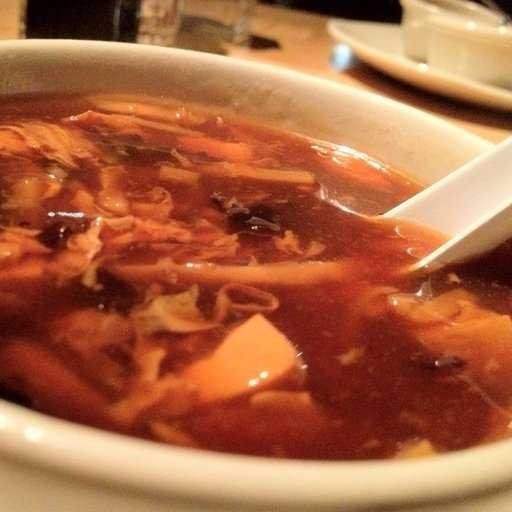soup: (1, 84, 501, 466)
